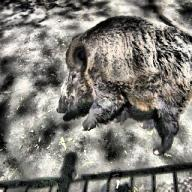boar: (55, 14, 192, 156)
